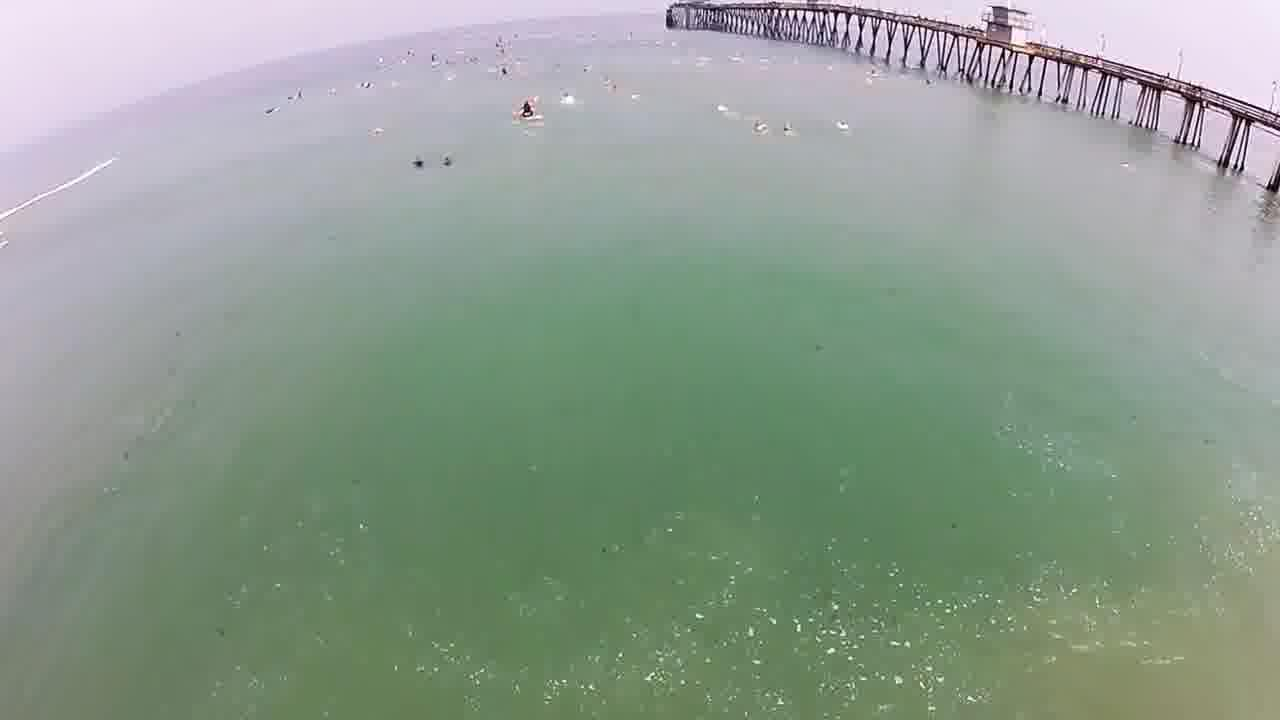human: (401, 149, 429, 180), (437, 149, 462, 179)
